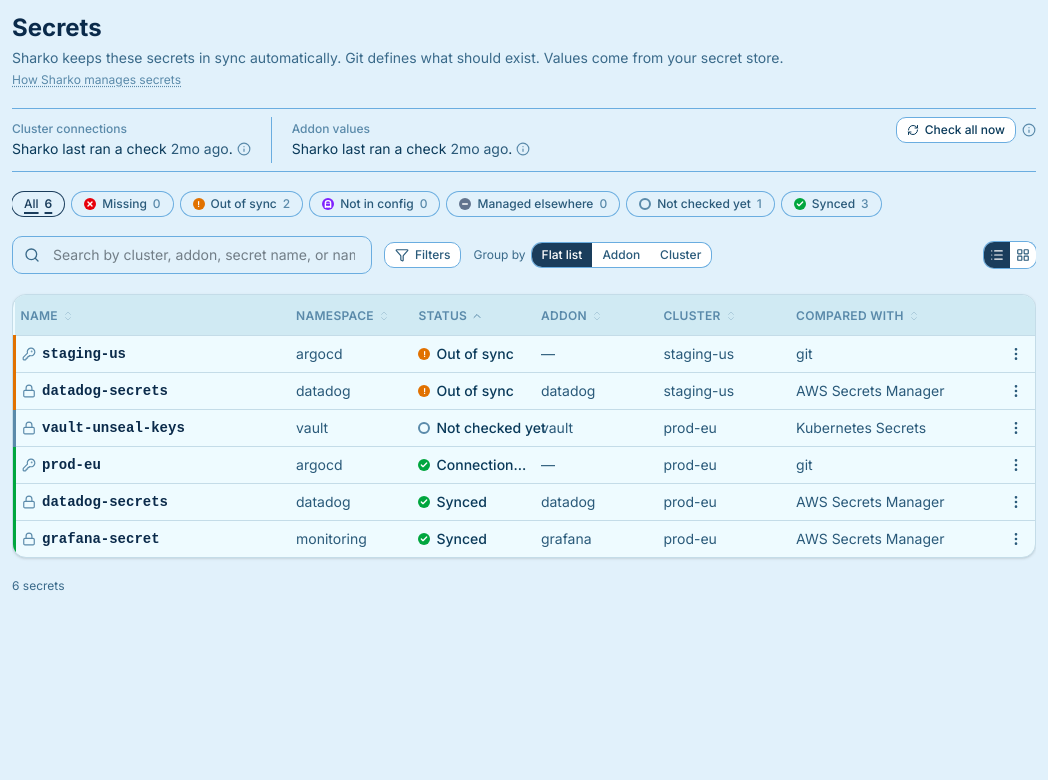
Test: ManagedSecrets — groups with issues open themselves (G4) › a click on the group header always wins over the computed default, in either direction
Expected: the button with test id "secret-row-values-prod-eu-datadog" is shown, [14,483,1035,520]
Click the button with test id "group-by-addon": {"x": 621, "y": 255} [592,243,650,267]
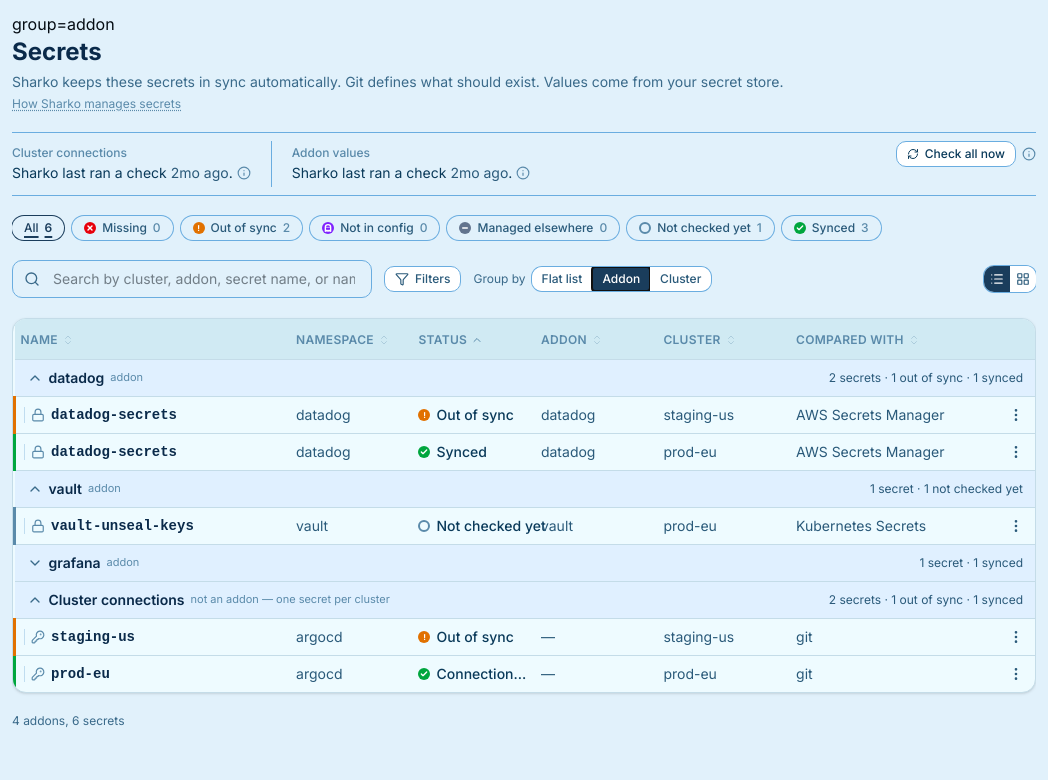
Click the button with test id "secret-group-addon-datadog": {"x": 76, "y": 377} [14,360,1035,396]
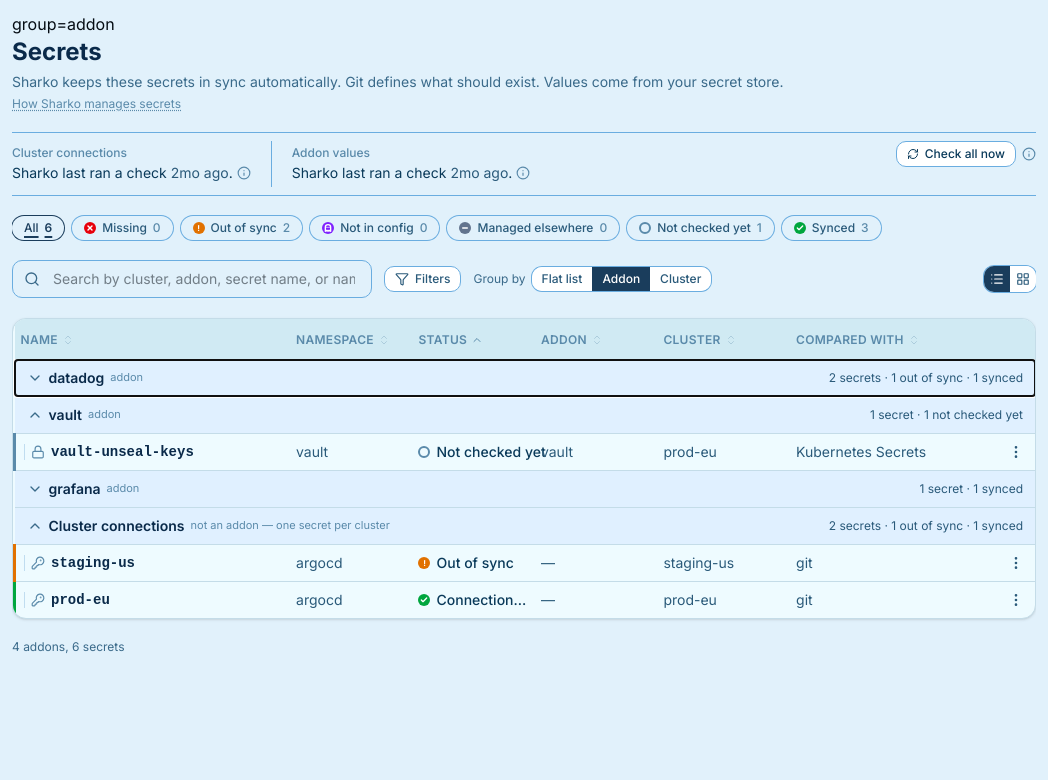
Now the button with test id "secret-group-addon-datadog" is collapsed, box [14,360,1035,396]
Now the button with test id "secret-row-values-prod-eu-datadog" is gone
Click the button with test id "secret-group-addon-grafana": {"x": 75, "y": 488} [14,470,1035,506]
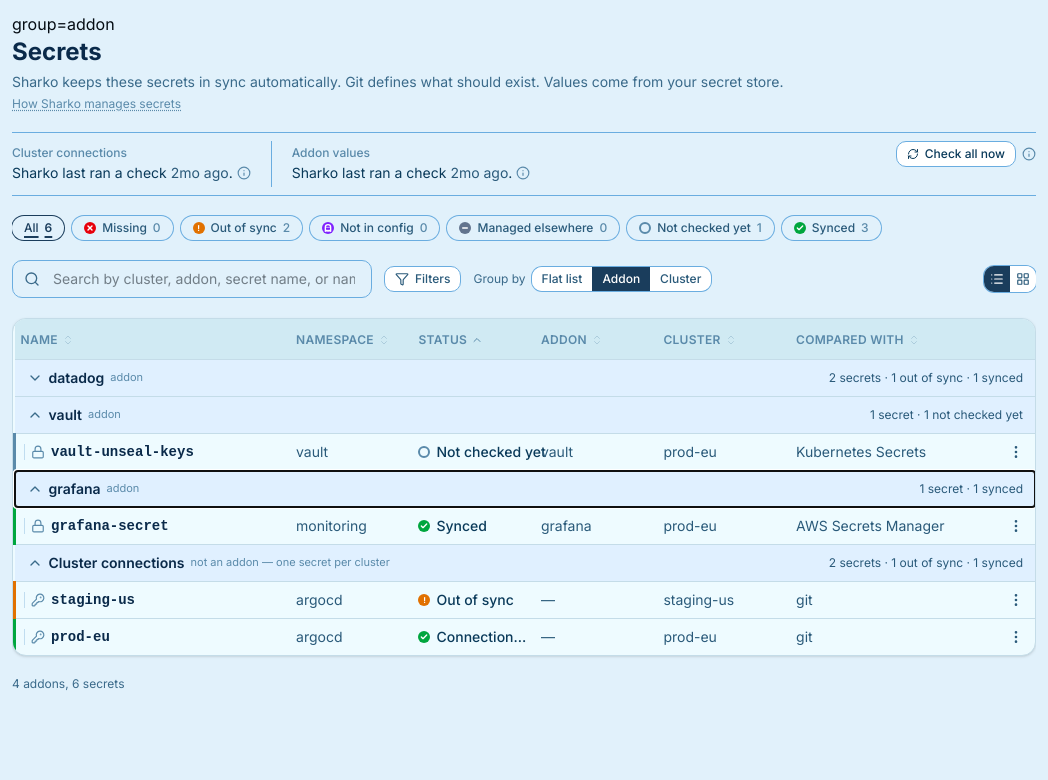
Now the button with test id "secret-group-addon-grafana" is expanded, box [14,470,1035,506]
Now the button with test id "secret-row-values-prod-eu-grafana" is shown, box [14,507,1035,544]
